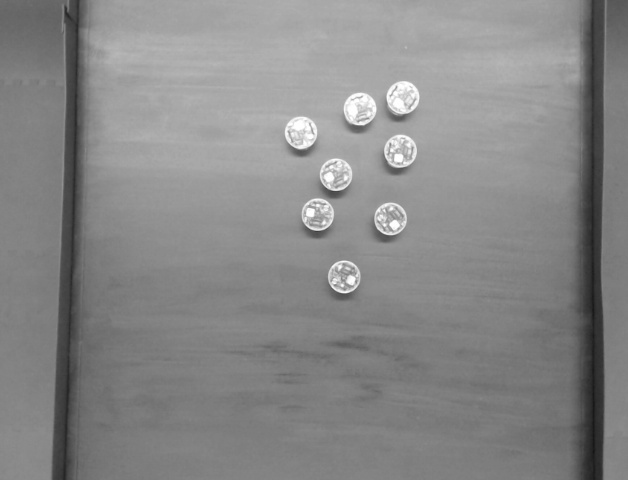epuck_2: (382, 131, 423, 185), (334, 89, 382, 134), (281, 112, 326, 155), (297, 193, 336, 240), (370, 201, 412, 243), (325, 257, 365, 300), (385, 77, 421, 123), (318, 156, 359, 194)
